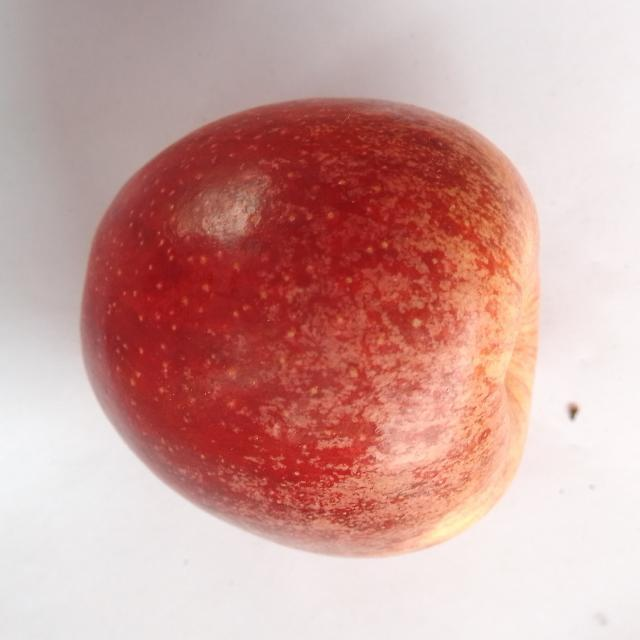Fresh Apple: (84, 105, 534, 538)
